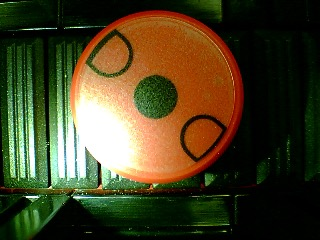BOHOMIPO2: (69, 10, 245, 184)
